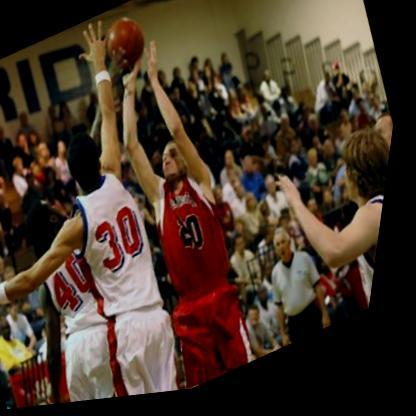basketball: (92, 11, 159, 85)
